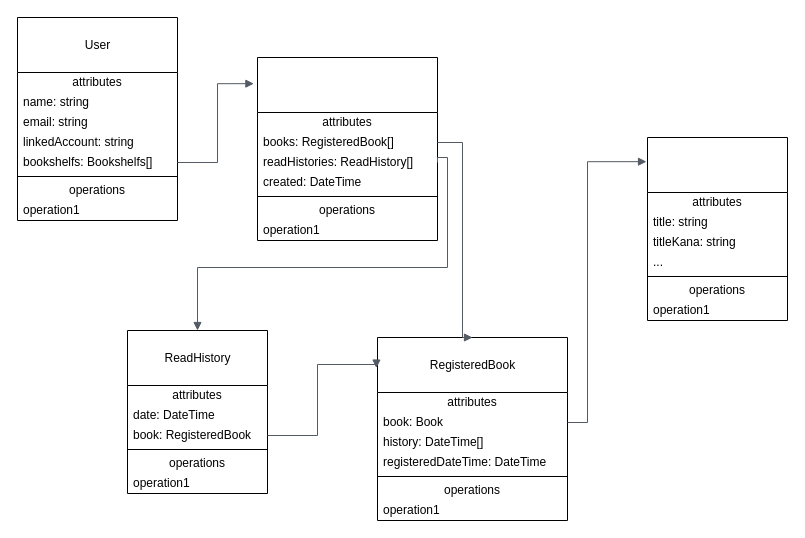
Some shapes in this 805 by 538 pixel diagram are drawn without their labels. The shapes that lost their labels are listed below. From the top down, each one's box as (x1, y1, x2, y2) in pixels, then its label:
(256, 56, 438, 240): Bookshelf
(646, 136, 788, 320): Book
